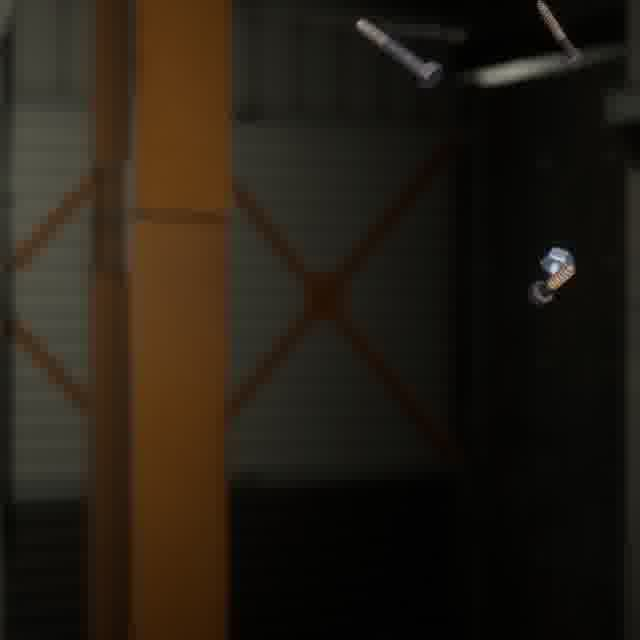bolt: (351, 14, 447, 93), (530, 0, 588, 72), (523, 258, 579, 311)
nut: (536, 242, 579, 279)
